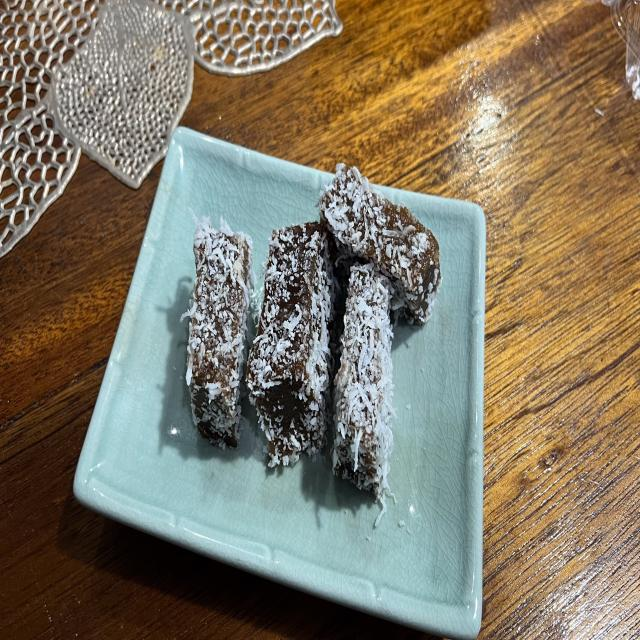kaswi: (246, 222, 334, 467), (319, 164, 441, 324), (181, 211, 252, 449), (332, 264, 395, 527)
